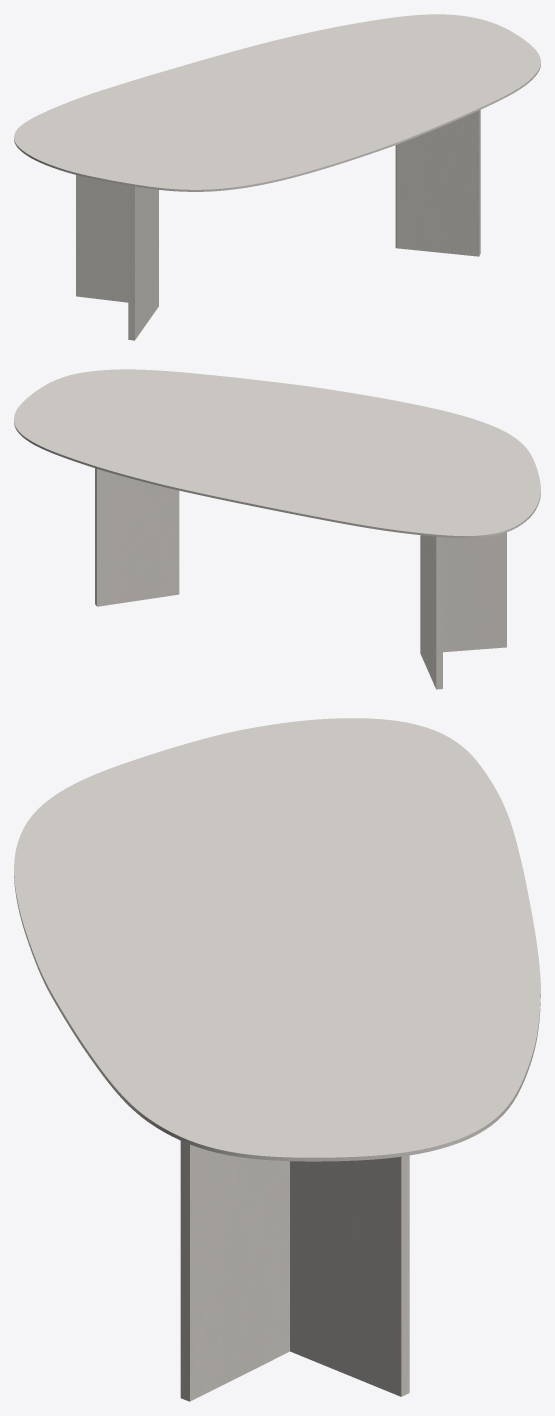
The model's file is purewhite_leaf2_facet_valleyv.glb.
3 renders of one model, top to bottom at view 1: azimuth 30°, elevation 25°; view 2: azimuth 150°, elevation 25°; view 3: azimuth 270°, elevation 25°, orthographic. The views are drawn at different scales.
Parts seen in each view (by area): view 1: facet_leaf2, valleyv; view 2: facet_leaf2, valleyv; view 3: facet_leaf2, valleyv.
Boxes of the visible parts, x1,y1,x2,y2 form: facet_leaf2: (14, 14, 540, 191); valleyv: (76, 110, 480, 340); facet_leaf2: (14, 369, 540, 538); valleyv: (95, 468, 506, 689); facet_leaf2: (14, 718, 540, 1161); valleyv: (180, 1141, 409, 1401).
Size of the model in its own units: 7.5 by 2.49 by 3.8.
1 material, 1 textured.
